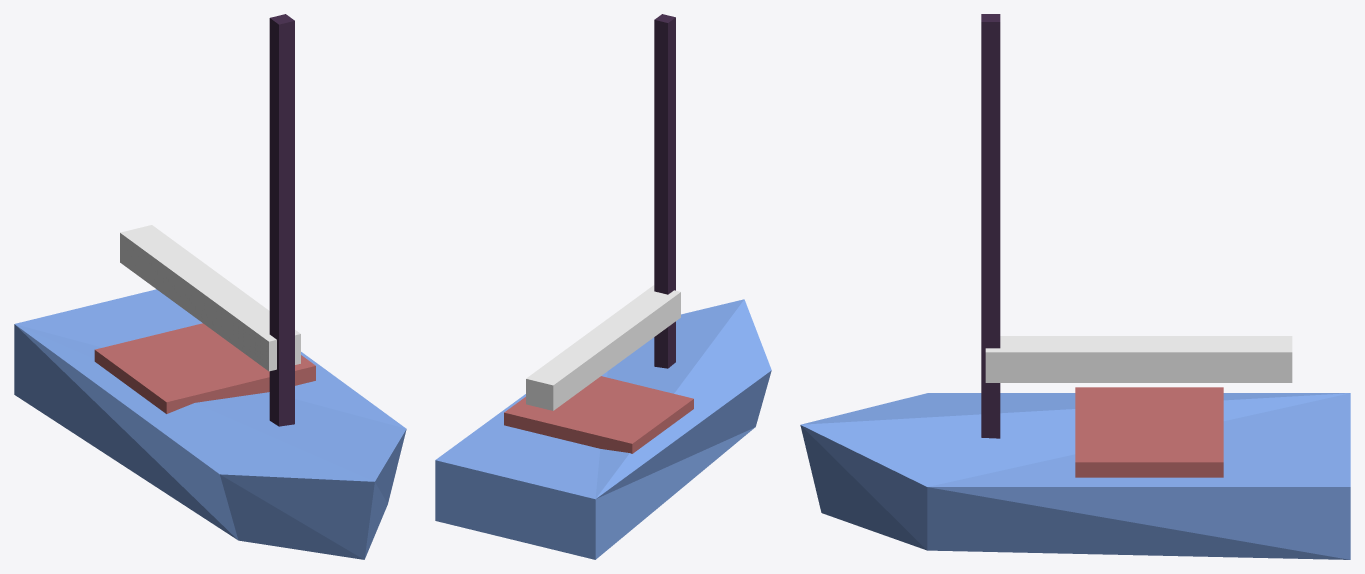
Rendered from dinghy_b.glb.
The picture shows the model from 3 angles, left to right: view 1: azimuth 30°, elevation 25°; view 2: azimuth 150°, elevation 25°; view 3: azimuth 270°, elevation 25°; orthographic projection. The views are drawn at different scales.
Parts seen in each view (by area): view 1: Mesh; view 2: Mesh; view 3: Mesh.
Part boxes in pixels (x1,y1,x2,y2): Mesh: [14, 14, 406, 559]; Mesh: [435, 14, 771, 559]; Mesh: [800, 14, 1350, 559].
Bounding box in the file's own units: 1.05 × 2.58 × 2.6.
